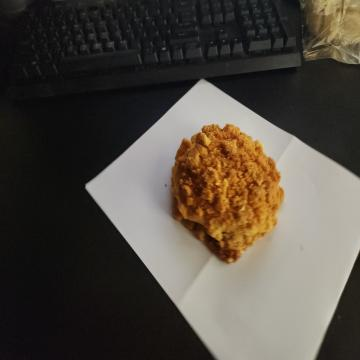soboru_bread: (168, 118, 286, 266)
